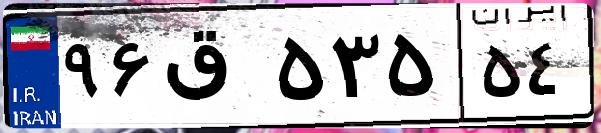3: (330, 28, 385, 110)
4: (525, 38, 570, 115)
5: (270, 28, 330, 110), (385, 28, 445, 110), (475, 38, 525, 113)
6: (110, 28, 158, 98)
9: (57, 26, 110, 100)
ق: (158, 20, 270, 120)
